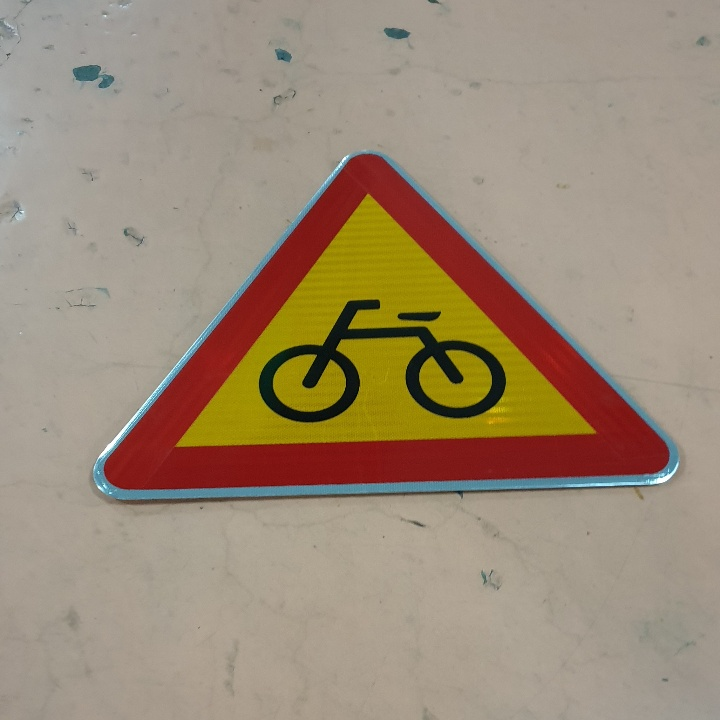bicycle: (91, 153, 688, 490)
